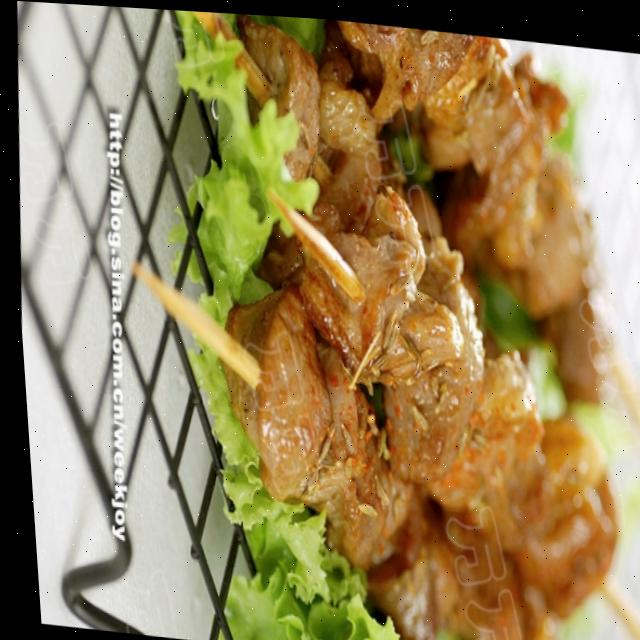烧串烤肉: (115, 5, 640, 640)
